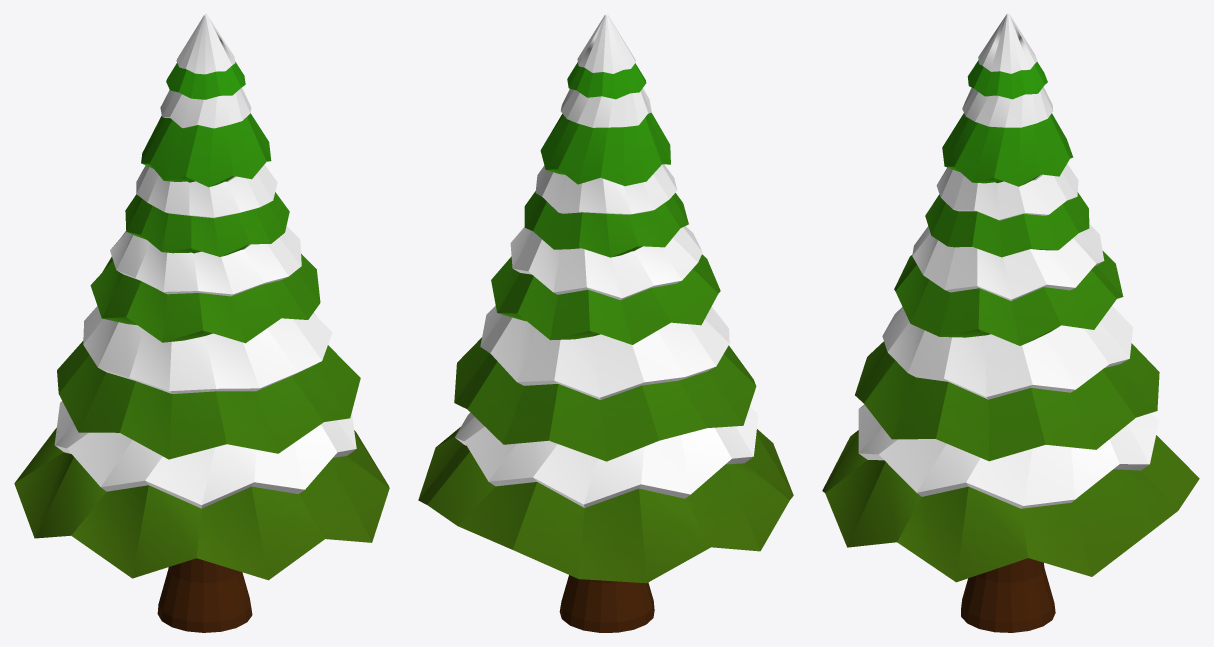
Rendered from tree_star.gltf.
The picture shows the model from 3 angles, left to right: view 1: azimuth 30°, elevation 25°; view 2: azimuth 150°, elevation 25°; view 3: azimuth 270°, elevation 25°; orthographic projection.
Visible parts, largest first — view 1: Cylinder.005; view 2: Cylinder.005; view 3: Cylinder.005.
Boxes of the visible parts, x1=… form: Cylinder.005: x1=14, y1=14, x2=389, y2=632; Cylinder.005: x1=418, y1=14, x2=793, y2=632; Cylinder.005: x1=822, y1=14, x2=1199, y2=632.
Bounding box in the file's own units: 3.89 × 6.88 × 3.93.
Materials: 3 (1 with a texture image).
